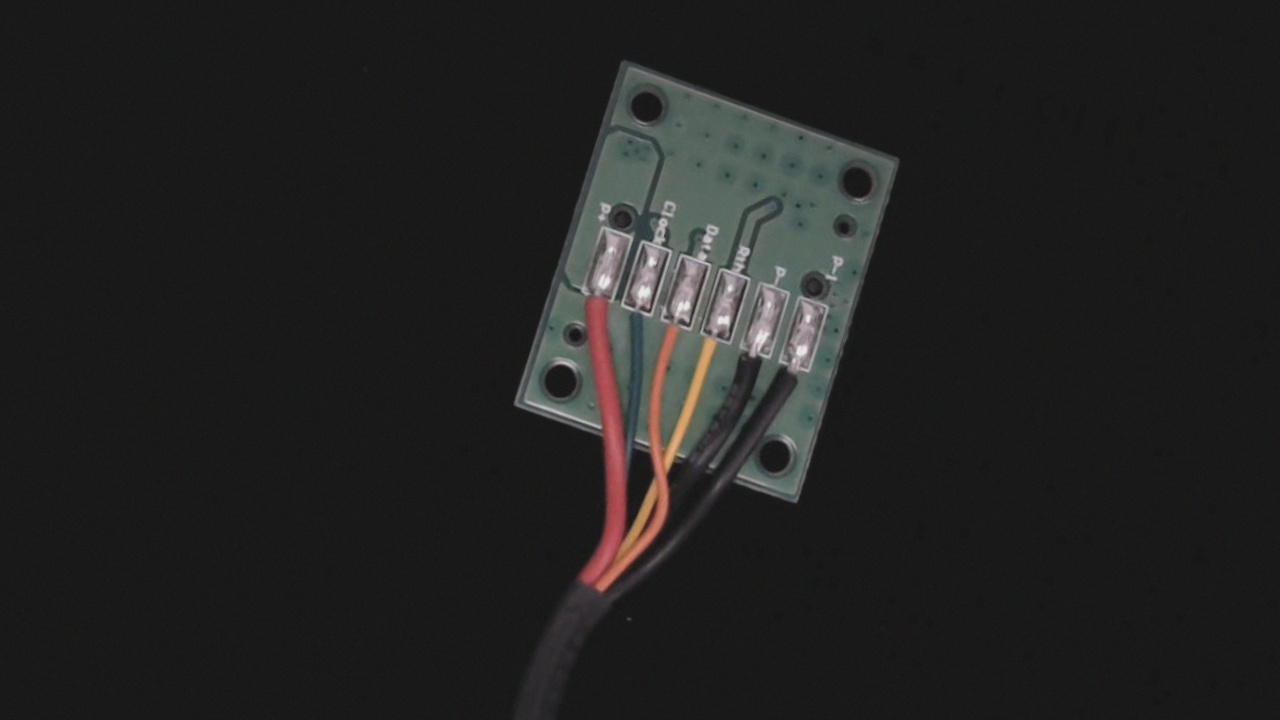Black: (721, 327, 776, 412)
Black1: (760, 345, 818, 428)
Green: (606, 290, 656, 363)
Orange: (643, 297, 701, 385)
Red: (569, 277, 621, 349)
Yellow: (681, 314, 738, 396)
